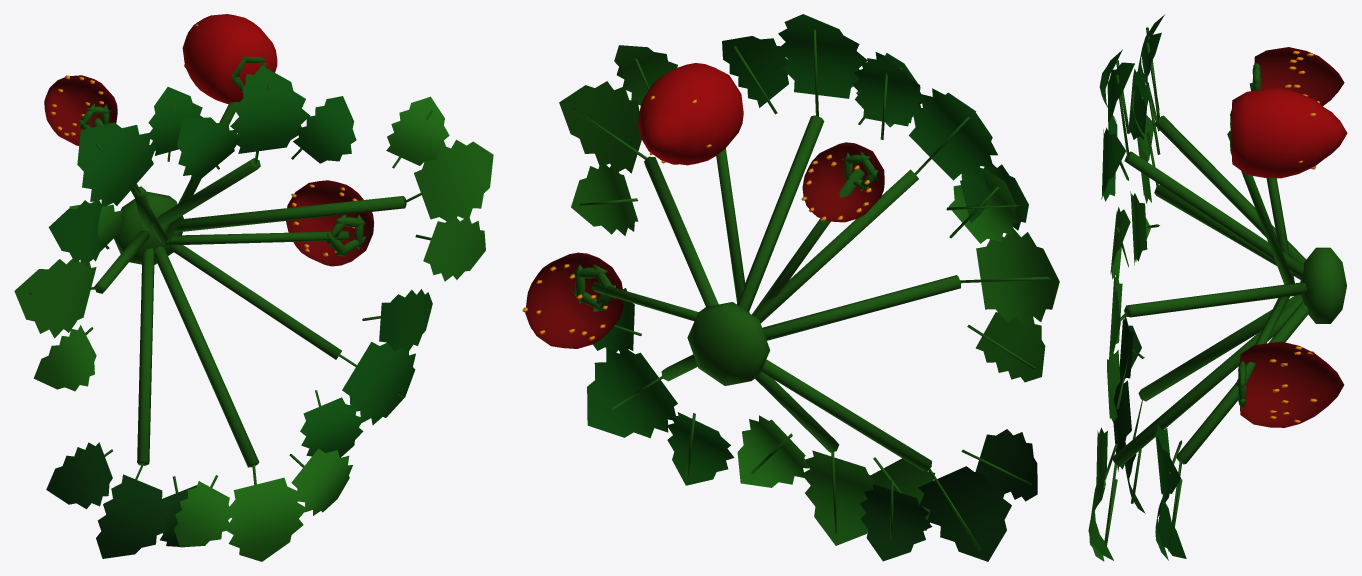
The model's file is plant_variant_03.obj.
The picture shows the model from 3 angles, left to right: view 1: azimuth 30°, elevation 25°; view 2: azimuth 150°, elevation 25°; view 3: azimuth 270°, elevation 25°; orthographic projection. The views are drawn at different scales.
Parts seen in each view (by area): view 1: field_export_plant_variant_03; view 2: field_export_plant_variant_03; view 3: field_export_plant_variant_03.
Boxes of the visible parts, box(x1,y1,x2,y2) form: field_export_plant_variant_03: box(14, 14, 493, 561); field_export_plant_variant_03: box(522, 14, 1059, 561); field_export_plant_variant_03: box(1088, 14, 1347, 561).
Size of the model in its own units: 0.5912 by 0.5879 by 0.2729.
